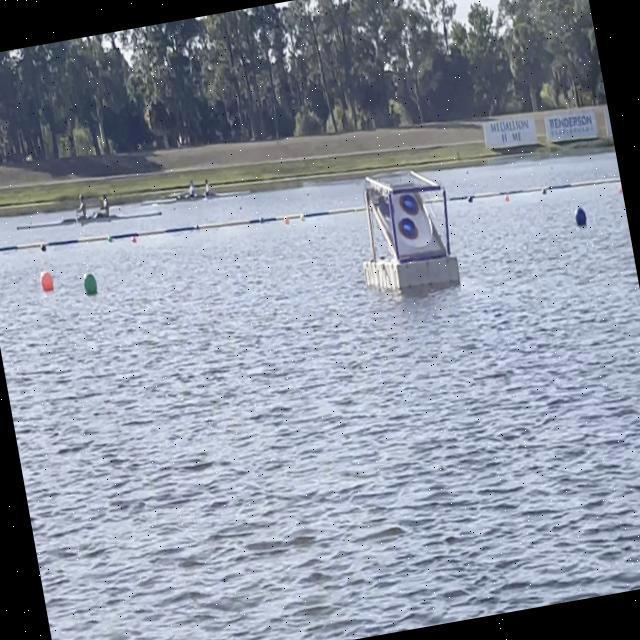buoy: (78, 268, 99, 299), (38, 269, 55, 294), (572, 204, 589, 227), (105, 232, 114, 244), (502, 190, 510, 202), (282, 213, 290, 224), (39, 242, 47, 253), (257, 215, 265, 224), (466, 193, 473, 202), (299, 213, 306, 222), (130, 236, 136, 244)
